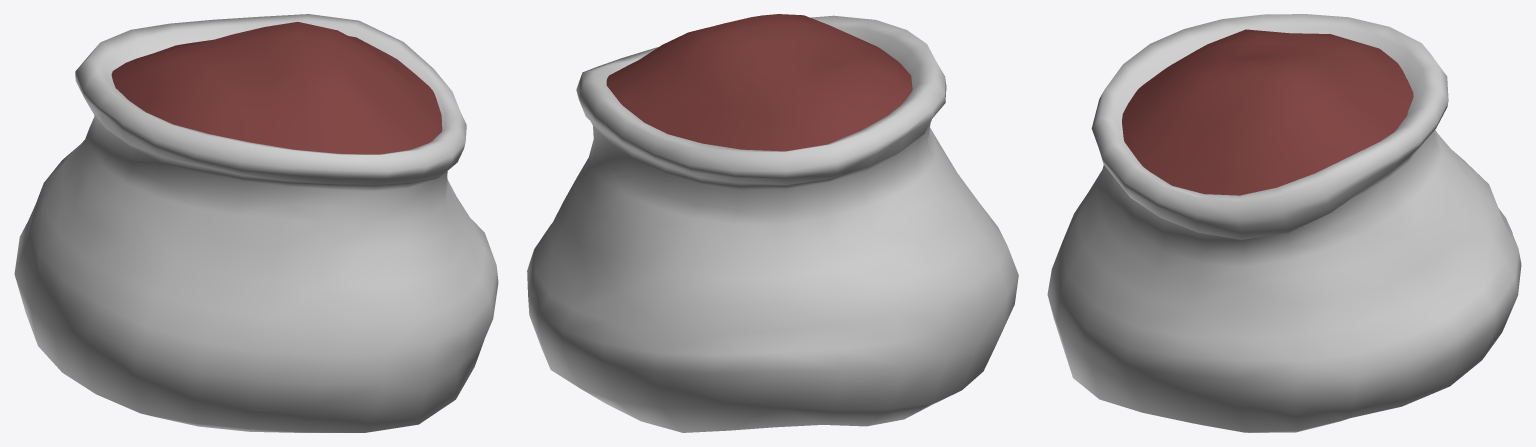
File: Sack_5.fbx
The picture shows the model from 3 angles, left to right: view 1: azimuth 30°, elevation 25°; view 2: azimuth 150°, elevation 25°; view 3: azimuth 270°, elevation 25°; orthographic projection. The views are drawn at different scales.
Visible parts, largest first — view 1: Sack_5_LOD0; view 2: Sack_5_LOD0; view 3: Sack_5_LOD0.
Part boxes in pixels (box(x1,y1,x2,y2)): Sack_5_LOD0: box(14, 14, 498, 432); Sack_5_LOD0: box(527, 14, 1018, 432); Sack_5_LOD0: box(1047, 14, 1521, 432).
Size of what is drawn, in the model's own units: 134 by 101 by 139.
